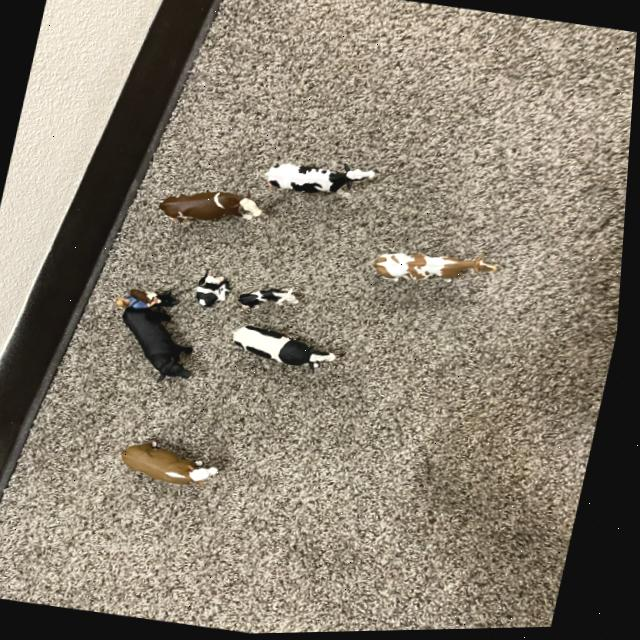cow: (123, 290, 209, 393), (234, 321, 343, 381), (123, 437, 226, 499), (266, 163, 378, 200), (377, 254, 501, 286), (161, 191, 265, 223), (196, 273, 237, 312), (241, 289, 303, 310), (131, 286, 163, 306)
person: (127, 294, 153, 315)
